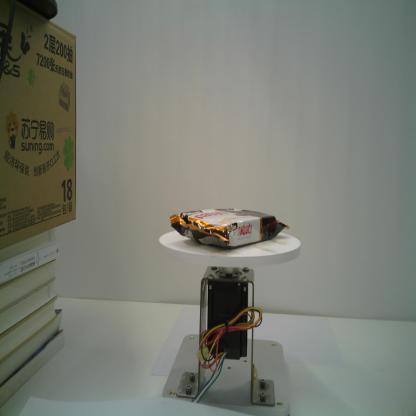Dessert: (167, 204, 291, 249)
